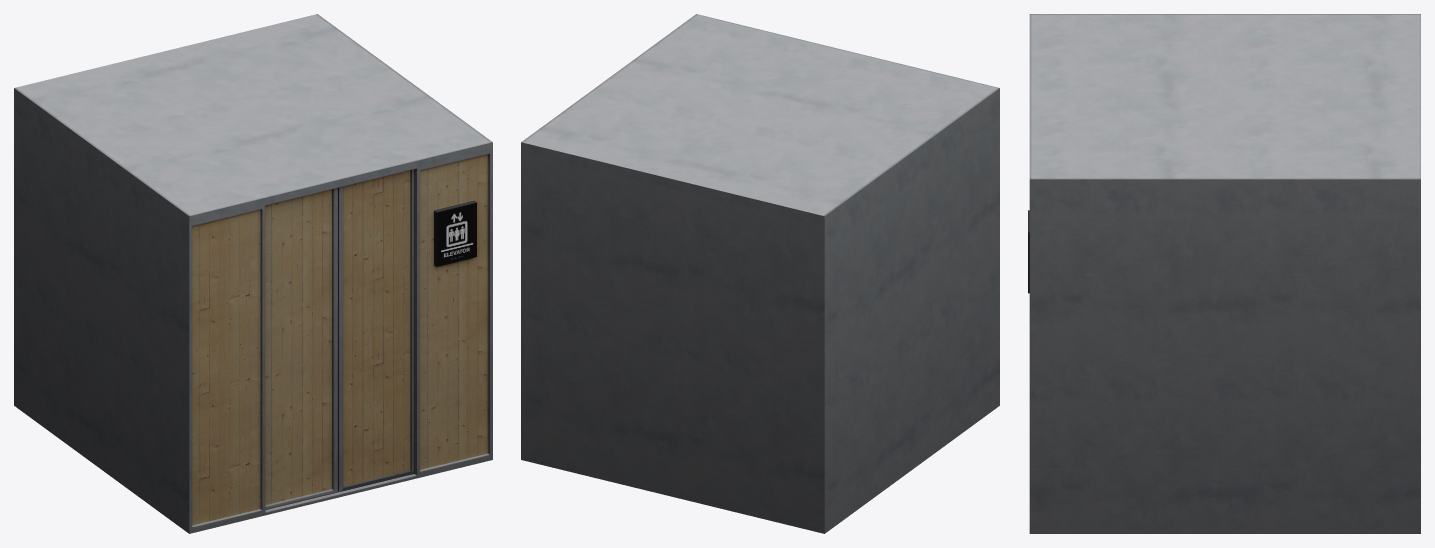
Rendered from Elevator.obj.
3 views of the same model, side by side, from view 1: azimuth 30°, elevation 25°; view 2: azimuth 150°, elevation 25°; view 3: azimuth 270°, elevation 25° (orthographic). The views are drawn at different scales.
Visible parts, largest first — view 1: obj3, obj2, obj1; view 2: obj3; view 3: obj3.
Part boxes in pixels (x1,y1,x2,y2): obj3: (14, 14, 492, 533); obj2: (338, 169, 414, 491); obj1: (265, 188, 337, 509); obj3: (521, 14, 999, 533); obj3: (1028, 14, 1420, 533).
Size of the model in its own units: 4 by 4 by 4.02.
2 materials, 1 textured.
